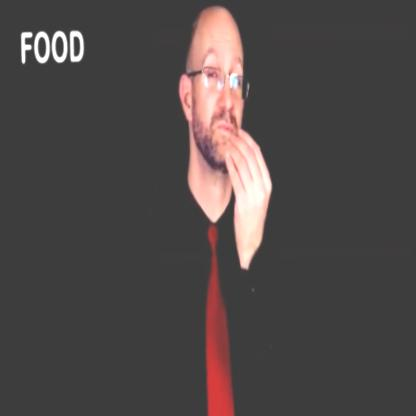Food: (148, 1, 283, 416)
